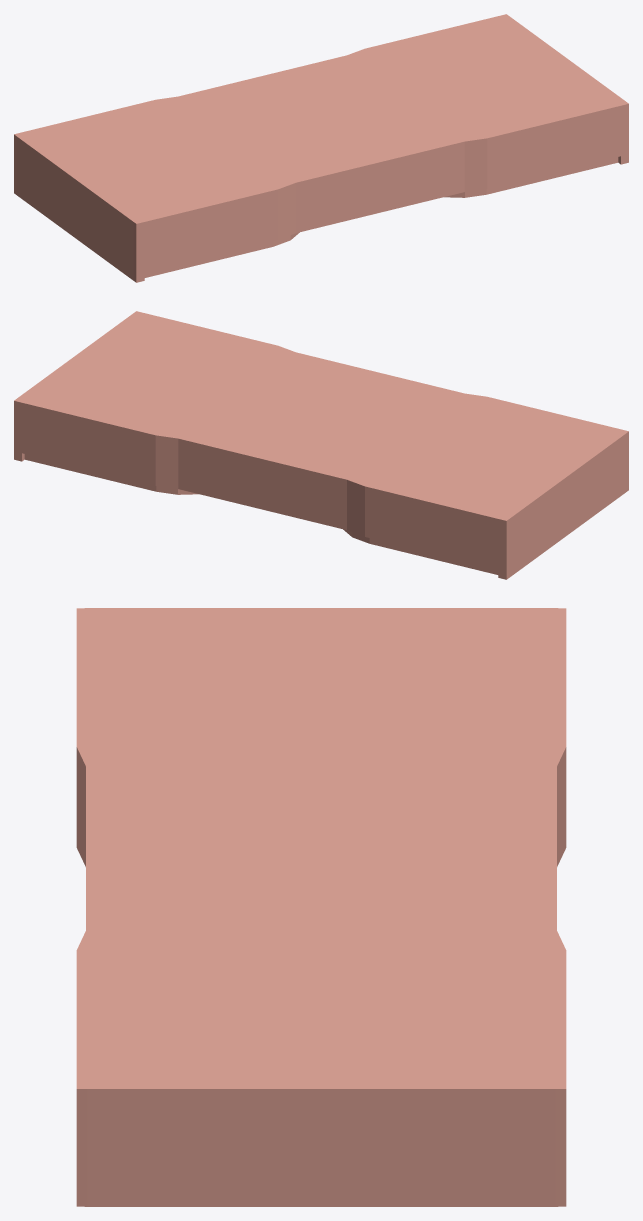
Rendered from lab section observation.fbx.
3 renders of one model, top to bottom at view 1: azimuth 30°, elevation 25°; view 2: azimuth 150°, elevation 25°; view 3: azimuth 270°, elevation 25°, orthographic. The views are drawn at different scales.
Visible parts, largest first — view 1: Observation rooms; view 2: Observation rooms; view 3: Observation rooms.
Boxes of the visible parts, x1,y1,x2,y2 form: Observation rooms: (14, 14, 628, 282); Observation rooms: (14, 311, 628, 579); Observation rooms: (76, 608, 566, 1206).
Size of the model in its own units: 6125 by 2637 by 700.
